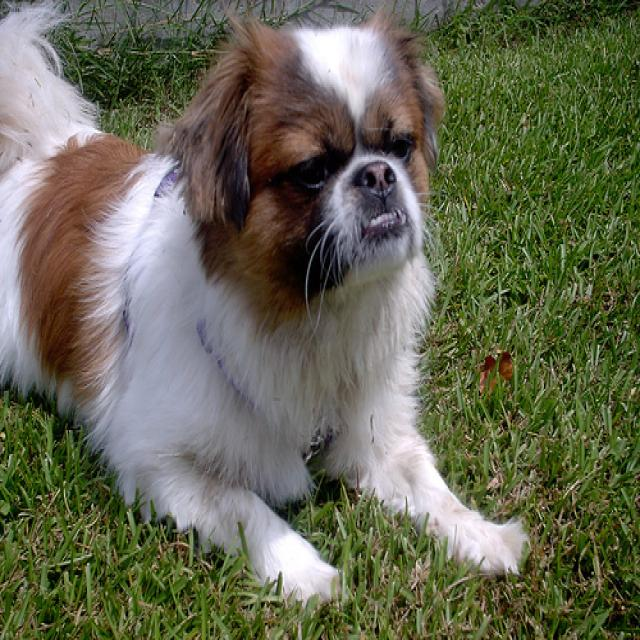dog-japanese_chin: (1, 2, 538, 618)
